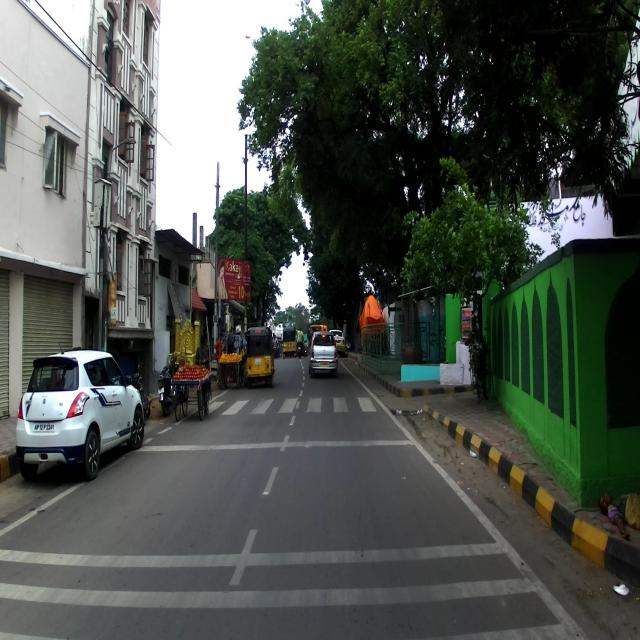Car_Maruti-Suzuki: (14, 340, 145, 480)
Car_TATA: (308, 329, 340, 379)
